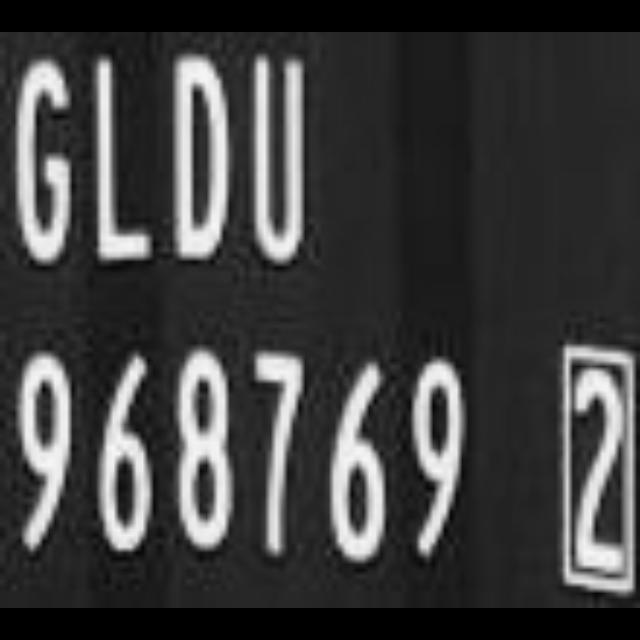2: (558, 344, 640, 588)
6: (324, 331, 396, 574), (88, 338, 162, 564)
7: (242, 333, 312, 564)
8: (170, 334, 240, 556)
9: (0, 342, 90, 566), (402, 331, 476, 569)
d: (166, 37, 238, 281)
g: (0, 32, 86, 274)
l: (85, 45, 159, 279)
u: (242, 42, 314, 276)
